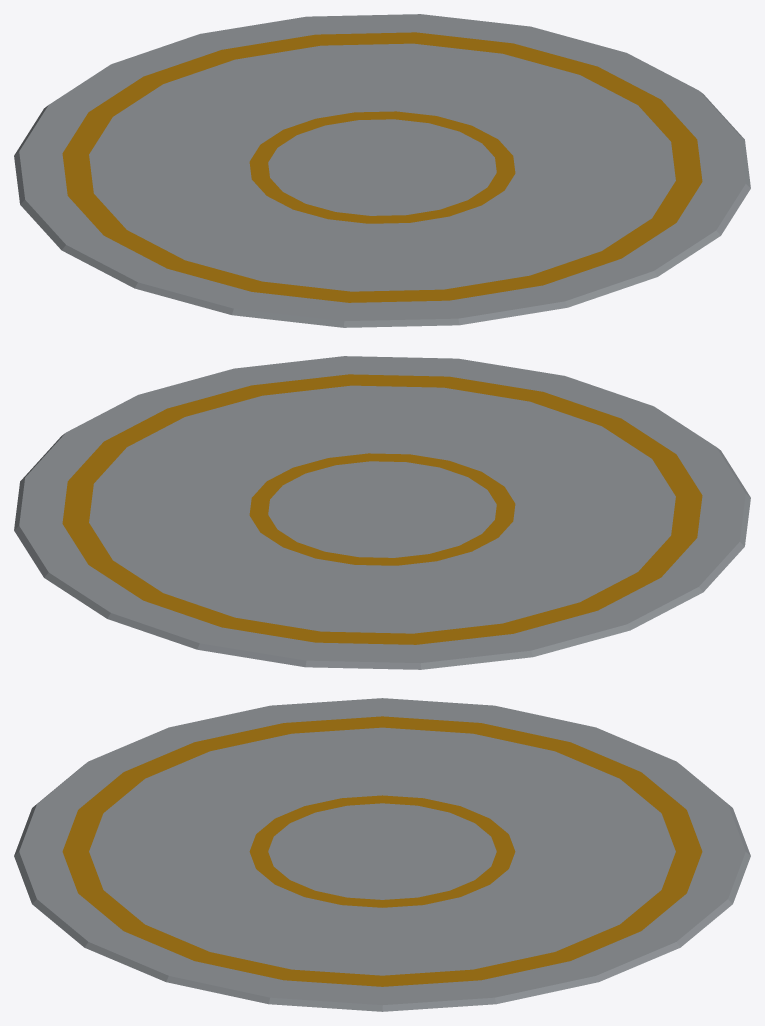
The model's file is Rug.fbx.
3 renders of one model, top to bottom at view 1: azimuth 30°, elevation 25°; view 2: azimuth 150°, elevation 25°; view 3: azimuth 270°, elevation 25°, orthographic.
Parts seen in each view (by area): view 1: Rug; view 2: Rug; view 3: Rug.
Boxes of the visible parts, x1=… form: Rug: x1=14, y1=14, x2=750, y2=327; Rug: x1=14, y1=356, x2=750, y2=669; Rug: x1=14, y1=698, x2=750, y2=1011.
Size of the model in its own units: 2.64 by 0.0178 by 2.64.
